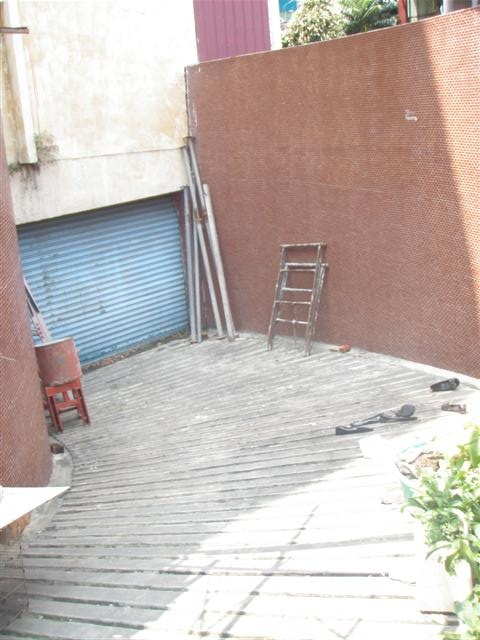bucket: (34, 336, 83, 388)
